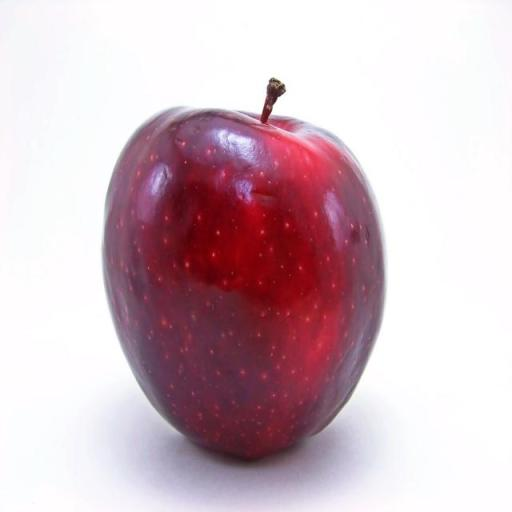fruit: (104, 80, 383, 458)
